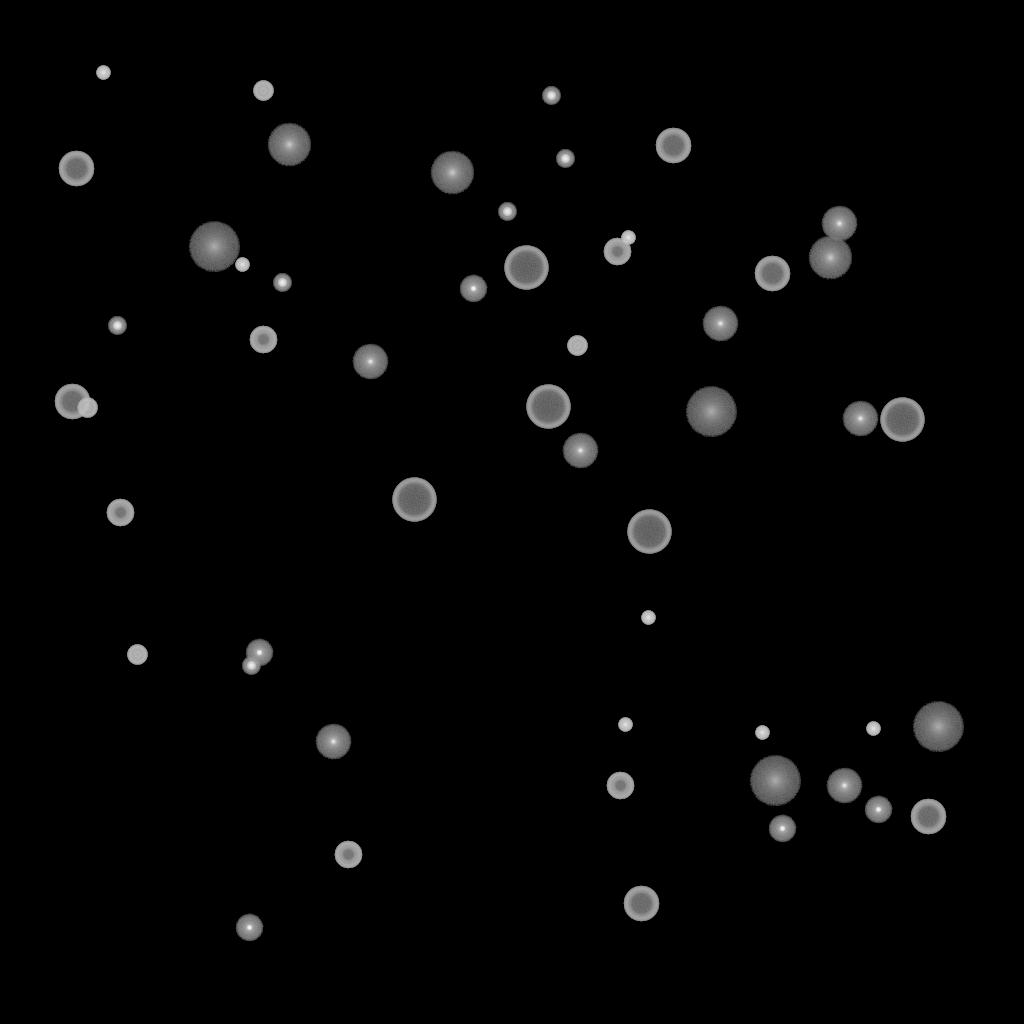depth:-10: (459, 275, 487, 303), (245, 639, 273, 667), (768, 815, 796, 843), (864, 796, 892, 824), (235, 914, 263, 942)
depth:-20: (542, 87, 560, 105), (242, 657, 260, 675), (556, 150, 574, 168), (108, 317, 126, 335), (498, 203, 516, 221), (273, 274, 291, 292)
depth:-30: (755, 726, 769, 740), (866, 722, 880, 736), (618, 718, 632, 732), (641, 611, 655, 625), (235, 258, 249, 272), (96, 66, 110, 80), (621, 231, 635, 245)
depth:-40: (567, 336, 587, 356), (127, 645, 147, 665), (253, 81, 273, 101), (77, 398, 97, 418)
depth:-50: (606, 772, 634, 800), (334, 841, 362, 869), (603, 238, 631, 266), (106, 499, 134, 527), (249, 326, 277, 354)
depth:-60: (754, 256, 790, 292), (623, 886, 659, 922), (54, 384, 90, 420), (655, 128, 691, 164), (910, 799, 946, 835), (58, 151, 94, 187)
depth:-70: (526, 385, 570, 429), (880, 398, 924, 442), (392, 478, 436, 522), (504, 246, 548, 290), (627, 510, 671, 554)
depth:0: (352, 344, 388, 380), (315, 724, 351, 760), (826, 768, 862, 804), (821, 206, 857, 242), (702, 306, 738, 342), (562, 433, 598, 469), (842, 401, 878, 437)
depth:10: (808, 236, 852, 280), (430, 151, 474, 195), (267, 123, 311, 167)
depth:20: (749, 756, 801, 806), (188, 222, 240, 272), (685, 387, 737, 437), (912, 702, 964, 752)
